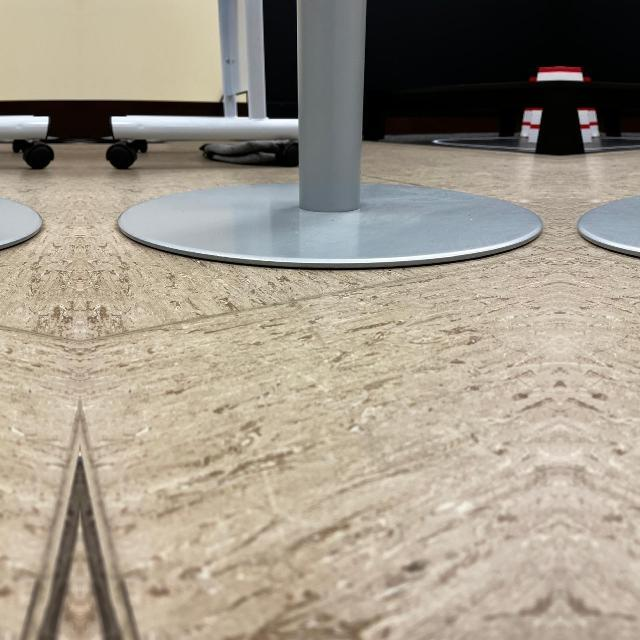obstacle: (113, 2, 543, 268), (577, 1, 640, 268), (0, 1, 47, 268)
